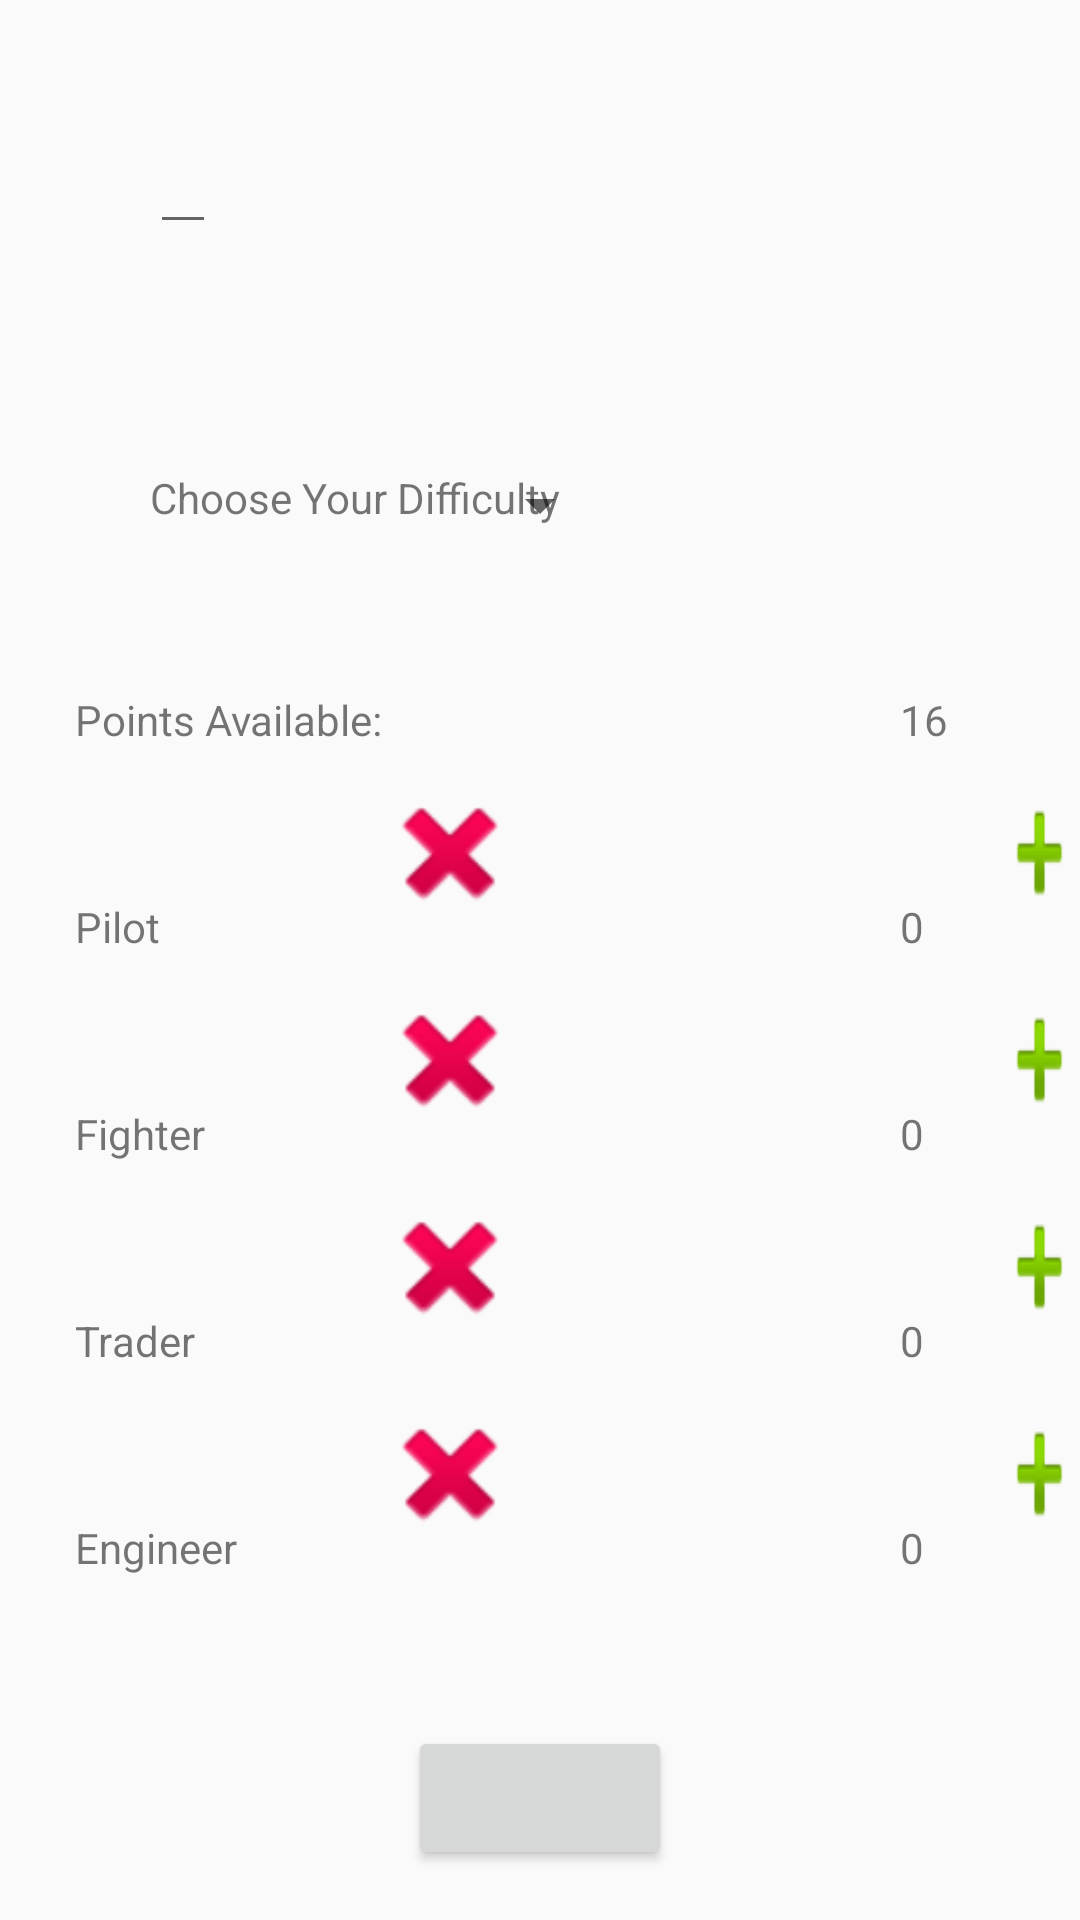

Icon click points for this 1080 x 1920 phone screenshot, format [x,y]:
add: [1039,853], [1039,1060], [1039,1267], [1039,1474]
delete: [450,854], [450,1061], [450,1268], [450,1475]
